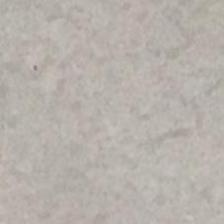Non_Crack: (20, 23, 201, 182)
